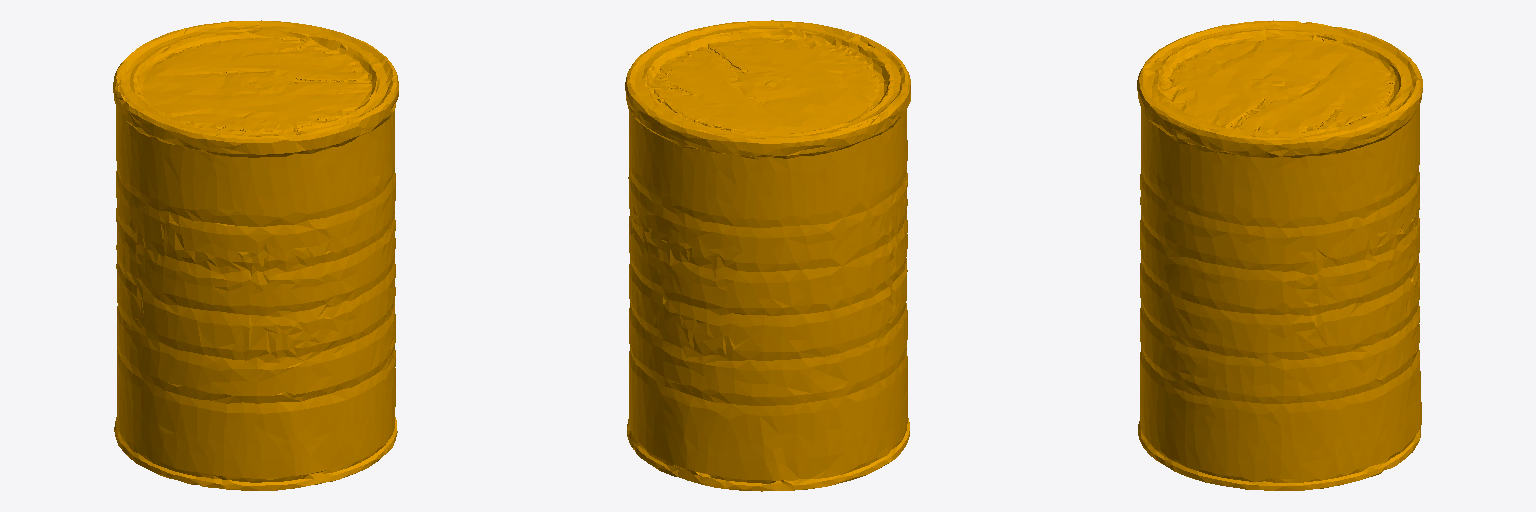
robot.urdf — root:
<robot name="root">
  <link name="link_original">
    <visual>
      <origin xyz="0 0 0" rpy="0 0 0"/>
      <geometry>
        <mesh filename="textured.obj" scale="1.0000E+00 1.0000E+00 1.0000E+00"/>
      </geometry>
    </visual>
    <inertial>
      <origin xyz="0 0 0" rpy="0 0 0"/>
      <mass value="1.0545E+00"/>
      <inertia ixx="2.27E-03" ixy="9.89E-07" ixz="-1.41E-06" iyy="2.26E-03" iyz="4.82E-07" izz="1.32E-03"/>
    </inertial>
    <collision>
      <origin xyz="0 0 0" rpy="0 0 0"/>
      <geometry>
        <mesh filename="coacd_allinone.obj" scale="1.0000E+00 1.0000E+00 1.0000E+00"/>
      </geometry>
    </collision>
  </link>
</robot>

--- What the picture shows (computed from the rendered views, not written in the file) ---
3 views of the same robot in one strip: view 1: azimuth 30°, elevation 25°; view 2: azimuth 150°, elevation 25°; view 3: azimuth 270°, elevation 25° (orthographic).
Robot: root — 1 links, 0 joints (none); root link link_original; default pose: all joints at 0.
Links seen in each view (by area): view 1: link_original; view 2: link_original; view 3: link_original.
Boxes of the visible links, left/top/right/bottom form: link_original: left=113, top=20, right=398, bottom=490; link_original: left=625, top=20, right=910, bottom=491; link_original: left=1137, top=20, right=1422, bottom=490.
Size in the robot's own frame: 0.1025 by 0.1024 by 0.1402 metres.
1 mesh visuals loaded from 1 distinct referenced files (1 OBJ).
